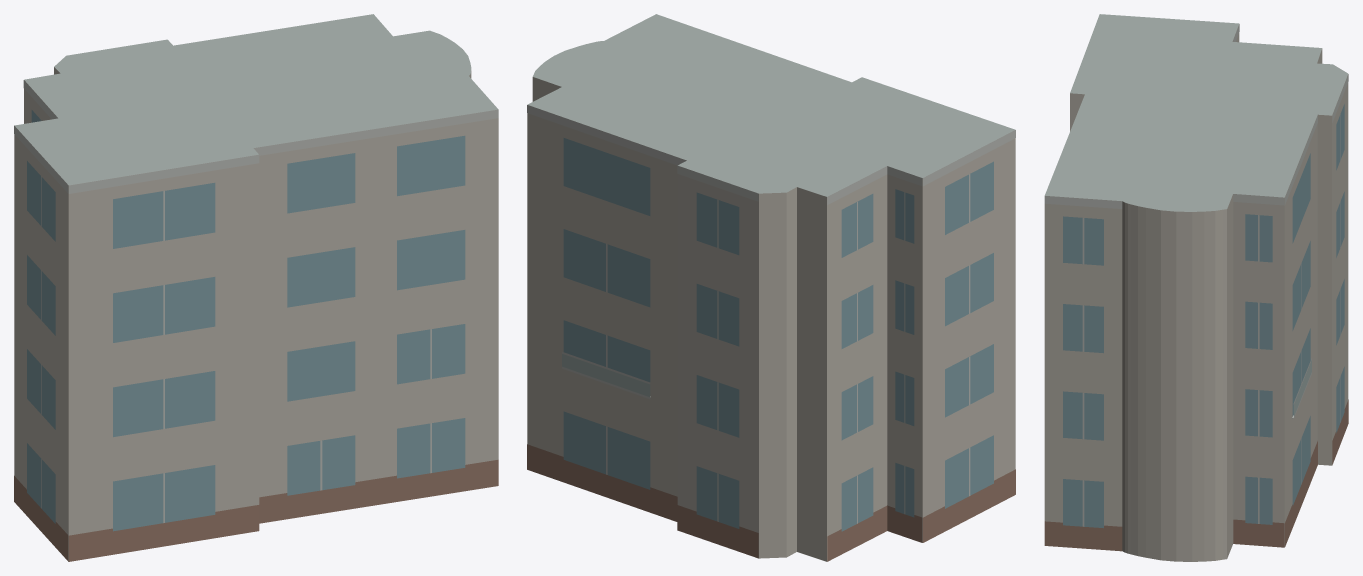
Rendered from survey-upis-32730159.glb.
3 renders of one model, left to right at view 1: azimuth 30°, elevation 25°; view 2: azimuth 150°, elevation 25°; view 3: azimuth 270°, elevation 25°, orthographic. The views are drawn at different scales.
Visible parts, largest first — view 1: survey-upis-32730159.tmp; view 2: survey-upis-32730159.tmp; view 3: survey-upis-32730159.tmp.
Part boxes in pixels (<box>): survey-upis-32730159.tmp: <box>14,14,498,561</box>; survey-upis-32730159.tmp: <box>527,14,1015,561</box>; survey-upis-32730159.tmp: <box>1044,14,1348,561</box>.
Size of the model in its own units: 12.98 by 10.7 by 8.43.
